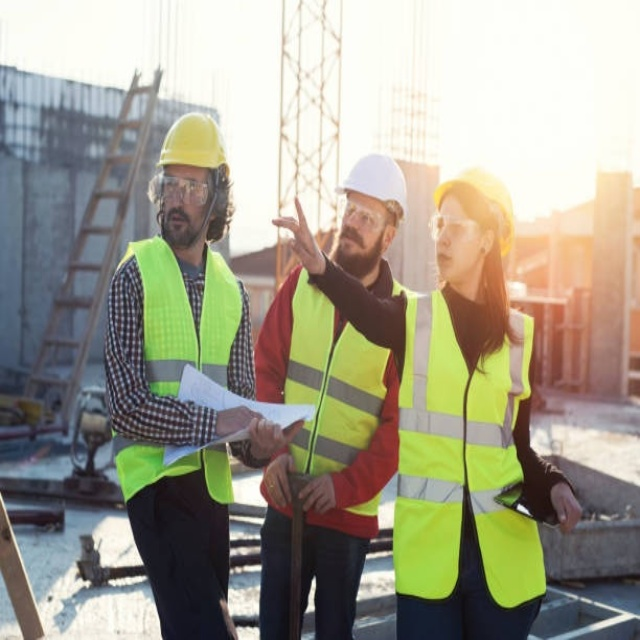Gafas: (158, 174, 209, 210), (336, 194, 385, 231), (428, 208, 481, 239)
Sin_guantes: (269, 193, 323, 278), (246, 413, 305, 461), (260, 453, 296, 508), (295, 472, 338, 515), (550, 482, 583, 530)
Sin_mascara: (434, 245, 462, 280), (334, 231, 365, 261), (162, 210, 192, 235)
